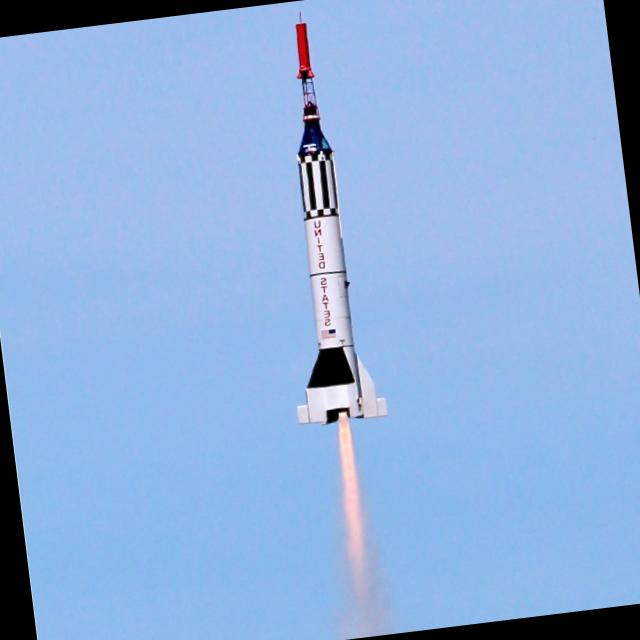rocket: (255, 4, 378, 434)
